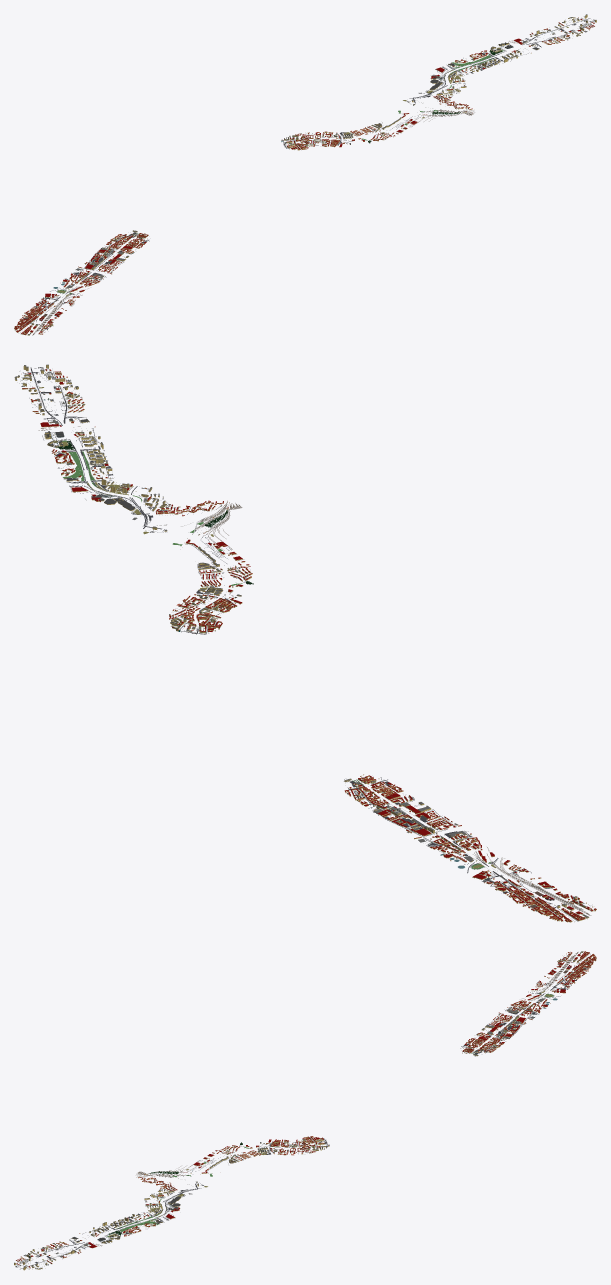
Rendered from city_model.glb.
3 renders of one model, top to bottom at view 1: azimuth 90°, elevation 25°; view 2: azimuth 150°, elevation 25°; view 3: azimuth 270°, elevation 25°, orthographic. The views are drawn at different scales.
Parts seen in each view (by area): view 1: object 2, object 1, object 5, object 11; view 2: object 2, object 1, object 5, object 11, Rail w336520258; view 3: object 2, object 1, object 5, object 11.
Part boxes in pixels (x1,y1,x2,y2): object 2: (14, 15, 596, 335); object 1: (14, 17, 594, 334); object 5: (20, 18, 594, 331); object 11: (27, 14, 596, 334); object 2: (15, 365, 596, 922); object 1: (22, 369, 596, 921); object 5: (21, 367, 589, 921); object 11: (15, 364, 588, 917); Rail w336520258: (38, 426, 591, 915); object 2: (14, 951, 596, 1270); object 1: (16, 951, 596, 1267); object 5: (15, 954, 595, 1269); object 11: (14, 951, 583, 1268).
Size of the model in its own units: 10678 by 73.15 by 8241.
Materials: 32 (30 with a texture image).
